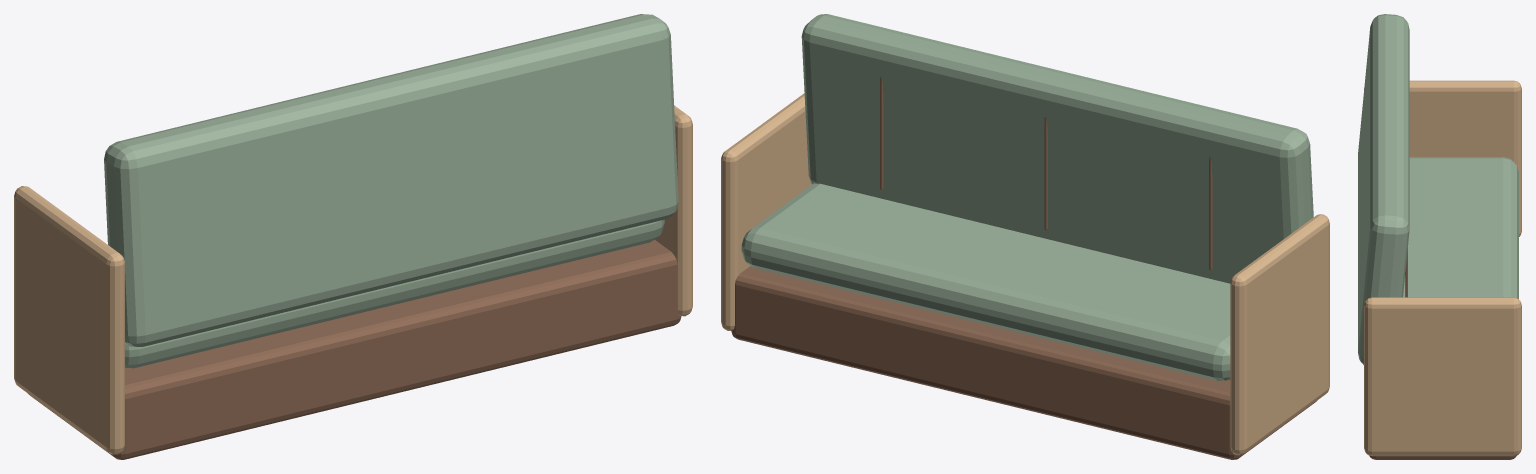
The model's file is BoothBench.fbx.
3 views of the same model, side by side, from view 1: azimuth 30°, elevation 25°; view 2: azimuth 150°, elevation 25°; view 3: azimuth 270°, elevation 25° (orthographic). The views are drawn at different scales.
Visible parts, largest first — view 1: Upholstered angled back, Timber plinth, Oak end panel, Upholstered seat, Oak end panel.001; view 2: Upholstered angled back, Upholstered seat, Timber plinth, Oak end panel, Oak end panel.001; view 3: Oak end panel.001, Upholstered seat, Upholstered angled back, Oak end panel, Timber plinth.
Part boxes in pixels (x1=…): Upholstered angled back: x1=104, y1=14, x2=678, y2=346; Timber plinth: x1=28, y1=239, x2=681, y2=459; Oak end panel: x1=14, y1=186, x2=124, y2=454; Upholstered seat: x1=125, y1=219, x2=664, y2=368; Oak end panel.001: x1=655, y1=105, x2=692, y2=316; Upholstered angled back: x1=801, y1=14, x2=1313, y2=283; Upholstered seat: x1=741, y1=183, x2=1230, y2=380; Timber plinth: x1=731, y1=266, x2=1317, y2=459; Oak end panel: x1=1230, y1=214, x2=1329, y2=455; Oak end panel.001: x1=721, y1=93, x2=811, y2=330; Oak end panel.001: x1=1364, y1=297, x2=1521, y2=456; Upholstered seat: x1=1403, y1=157, x2=1518, y2=298; Upholstered angled back: x1=1358, y1=14, x2=1409, y2=364; Oak end panel: x1=1364, y1=80, x2=1521, y2=236; Timber plinth: x1=1369, y1=455, x2=1516, y2=459.
Size of the model in its own units: 268 by 134 by 83.06.
